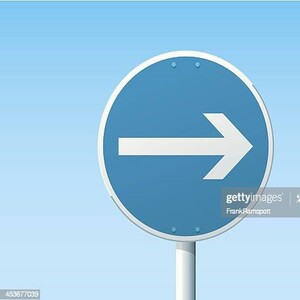trun_right: (100, 51, 268, 243)
